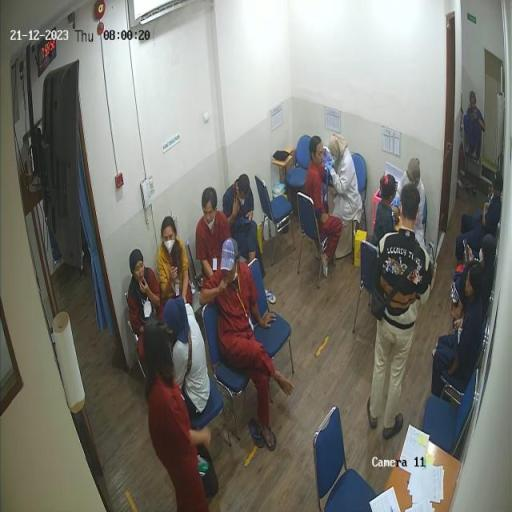person: (201, 238, 296, 450), (367, 184, 433, 441), (144, 322, 221, 509), (432, 263, 487, 401), (163, 297, 212, 440), (306, 137, 343, 276), (223, 175, 270, 283), (328, 133, 363, 263), (451, 235, 497, 333), (457, 173, 504, 263), (128, 249, 163, 359), (197, 188, 234, 288), (158, 217, 194, 314), (400, 159, 429, 243), (371, 176, 399, 251), (465, 92, 487, 163)
